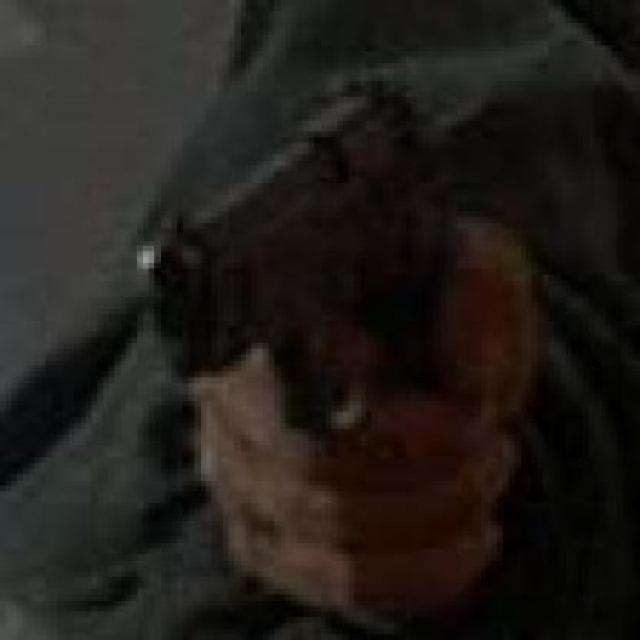rifle: (130, 50, 488, 446)
